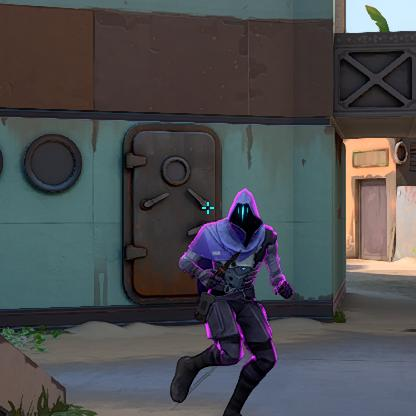enemyBody: (211, 228, 258, 291)
enemyHead: (234, 198, 254, 223)
